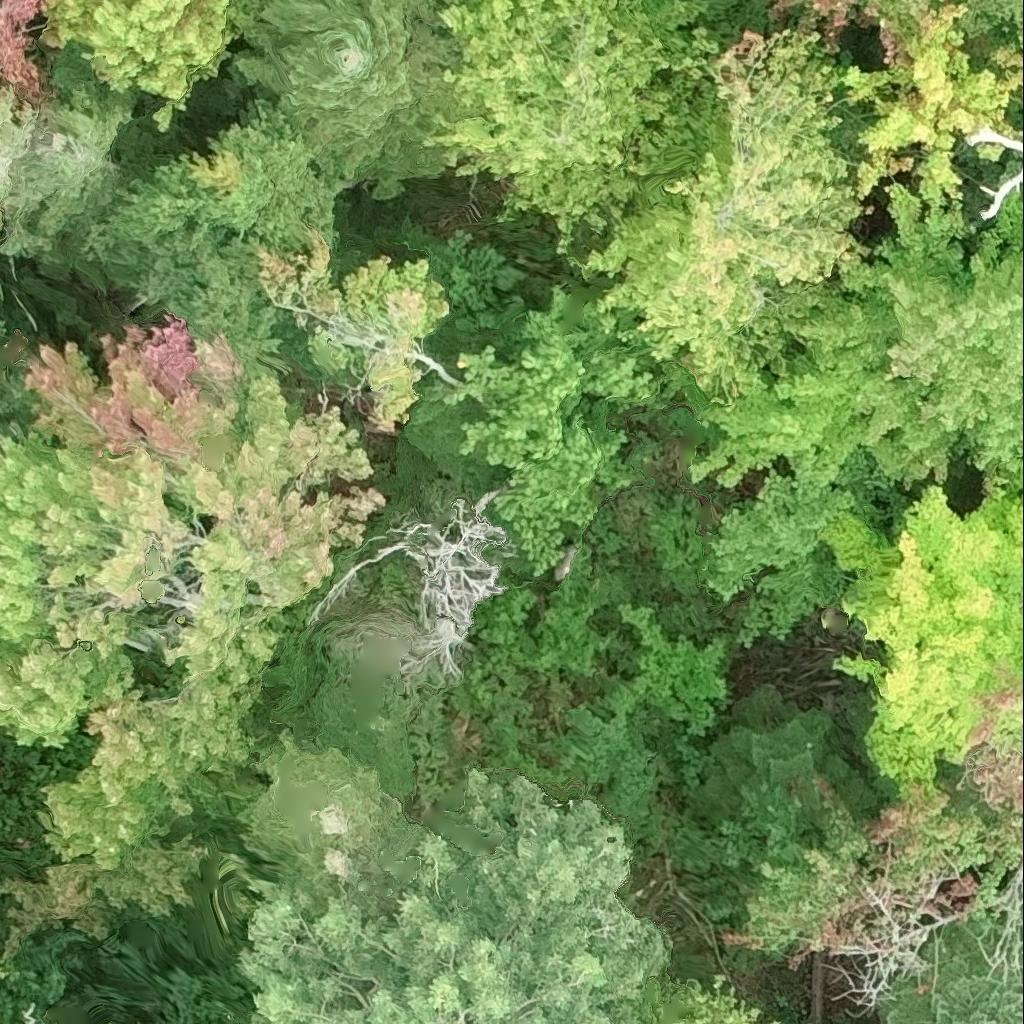crown: (230, 766, 668, 1023), (813, 465, 1023, 790), (719, 786, 1023, 971), (655, 784, 811, 927), (882, 927, 1023, 1023), (603, 973, 763, 1023), (964, 742, 1023, 831), (765, 1021, 782, 1023)
